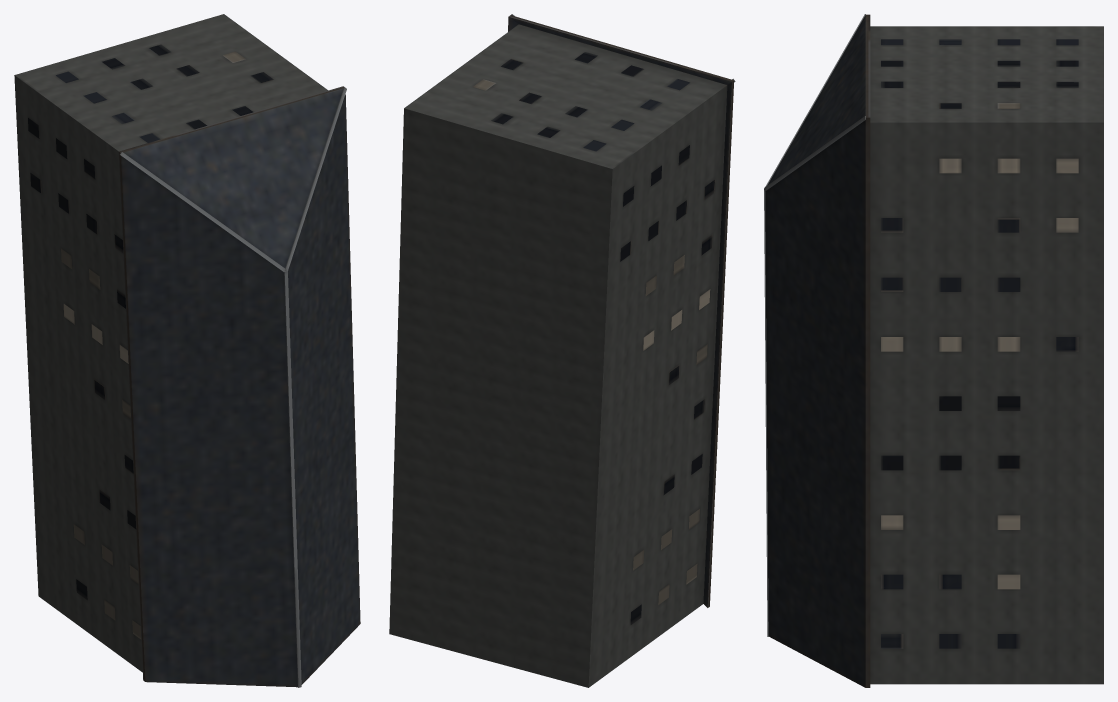
Rendered from house_b0098.obj.
3 views of the same model, side by side, from view 1: azimuth 30°, elevation 25°; view 2: azimuth 150°, elevation 25°; view 3: azimuth 270°, elevation 25° (orthographic). The views are drawn at different scales.
Parts seen in each view (by area): view 1: house_b0098; view 2: house_b0098; view 3: house_b0098.
Part boxes in pixels (left/top/right/bottom): house_b0098: left=14, top=14, right=360, bottom=687; house_b0098: left=389, top=14, right=735, bottom=687; house_b0098: left=764, top=14, right=1103, bottom=687.
Bounding box in the file's own units: 14.88 × 32.3 × 17.47.
Materials: 1 (1 with a texture image).
